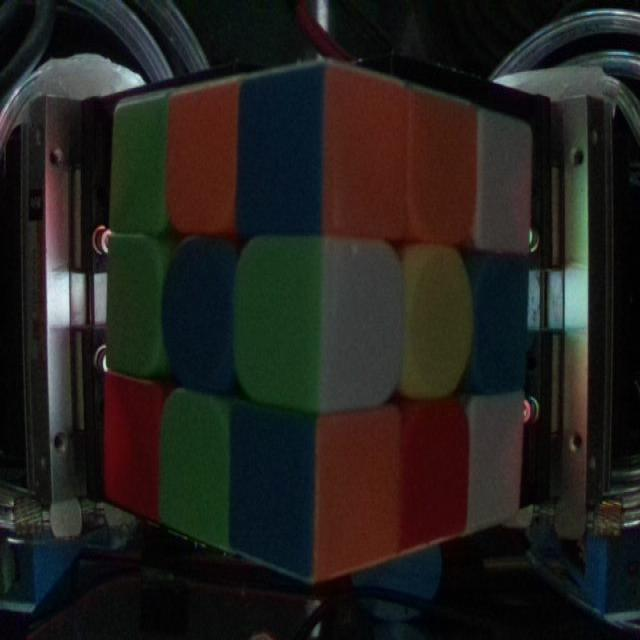b: (227, 408, 312, 575), (239, 82, 325, 237), (164, 236, 234, 391), (474, 252, 526, 387)
g: (236, 242, 323, 402), (162, 389, 228, 541), (110, 236, 160, 378), (111, 97, 163, 228)
o: (326, 68, 404, 234), (315, 417, 398, 571), (408, 93, 476, 243), (168, 92, 236, 222)
r: (401, 407, 468, 540), (106, 375, 158, 515)
w: (328, 246, 401, 406), (480, 116, 531, 252), (468, 400, 522, 520)
y: (404, 248, 471, 396)
